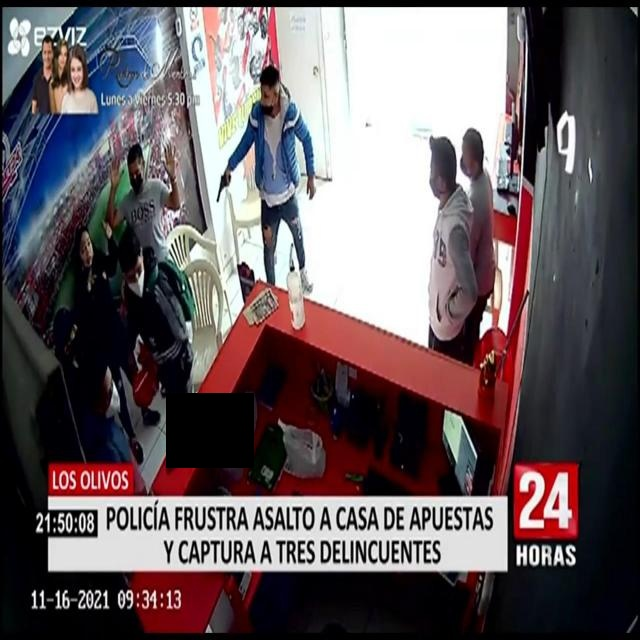gun: (212, 168, 233, 213)
